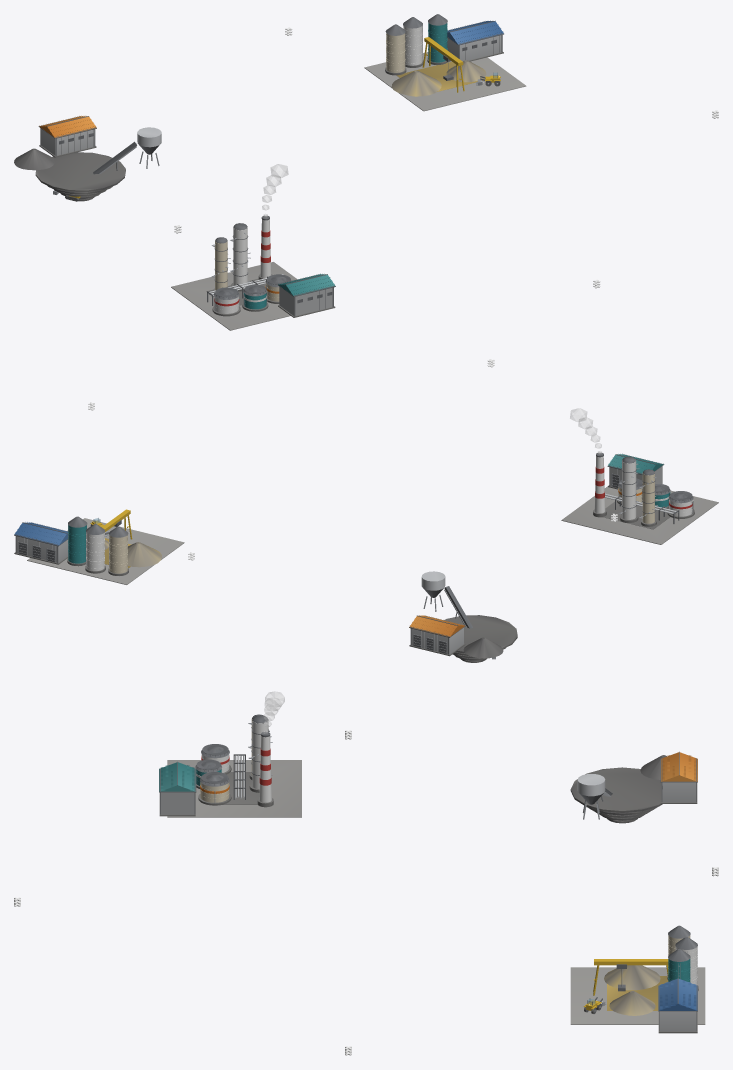
The model's file is Sites_P3.fbx.
The picture shows the model from 3 angles, top to bottom: view 1: azimuth 30°, elevation 25°; view 2: azimuth 150°, elevation 25°; view 3: azimuth 270°, elevation 25°; orthographic projection. The views are drawn at different scales.
Visible parts, largest first — view 1: Site.Store.Yard, Site.Quarry.Benches, Site.Plant.Pad, Site.Plant.Hall, Site.Quarry.Shed, Site.Store.Shed, Site.Plant.Col1, Site.Store.Silo0, Site.Store.Pile0, Site.Store.Silo1, Site.Store.Silo2, Site.Plant.Tank0 (+8 smaller); view 2: Site.Plant.Pad, Site.Store.Yard, Site.Store.Shed, Site.Quarry.Shed, Site.Quarry.Benches, Site.Plant.Col1, Site.Store.Silo1, Site.Plant.Hall, Site.Store.Silo0, Site.Store.Silo2, Site.Plant.Col0, Site.Store.Pile0 (+5 smaller); view 3: Site.Plant.Pad, Site.Store.Yard, Site.Quarry.Benches, Site.Store.Shed, Site.Plant.Hall, Site.Quarry.Shed, Site.Store.Pile0, Site.Plant.Tank2, Site.Plant.Stack, Site.Plant.Col1, Site.Store.Pile1, Site.Quarry.Hopper (+2 smaller).
Part boxes in pixels (x1,y1,x2,y2): Site.Store.Yard: (364, 52, 526, 111); Site.Quarry.Benches: (35, 152, 125, 201); Site.Plant.Pad: (171, 262, 297, 330); Site.Plant.Hall: (277, 273, 335, 317); Site.Quarry.Shed: (38, 115, 96, 157); Site.Store.Shed: (447, 20, 503, 61); Site.Plant.Col1: (230, 223, 250, 291); Site.Store.Silo0: (385, 24, 406, 75); Site.Store.Pile0: (391, 70, 441, 96); Site.Store.Silo1: (403, 17, 423, 67); Site.Store.Silo2: (427, 14, 447, 64); Site.Plant.Tank0: (212, 287, 240, 316); Site.Plant.Pad: (561, 486, 718, 544); Site.Store.Yard: (27, 518, 184, 584); Site.Store.Shed: (14, 522, 68, 564); Site.Quarry.Shed: (409, 615, 465, 656); Site.Quarry.Benches: (444, 615, 517, 662); Site.Plant.Col1: (618, 456, 639, 522); Site.Store.Silo1: (85, 524, 105, 573); Site.Plant.Hall: (607, 453, 664, 489); Site.Store.Silo0: (108, 526, 128, 575); Site.Store.Silo2: (67, 516, 87, 566); Site.Plant.Col0: (639, 469, 657, 526); Site.Store.Pile0: (128, 542, 161, 567); Site.Plant.Pad: (167, 760, 301, 817); Site.Store.Yard: (570, 967, 705, 1024); Site.Quarry.Benches: (570, 767, 662, 823); Site.Store.Shed: (658, 978, 697, 1033); Site.Plant.Hall: (159, 761, 196, 816); Site.Quarry.Shed: (660, 751, 697, 803); Site.Store.Pile0: (604, 965, 660, 990); Site.Plant.Tank2: (198, 772, 231, 805); Site.Plant.Stack: (257, 731, 273, 807); Site.Plant.Col1: (248, 715, 272, 792); Site.Store.Pile1: (609, 991, 655, 1015); Site.Quarry.Hopper: (577, 774, 605, 819).
Size of the model in its own units: 28734 by 6413 by 27269.
